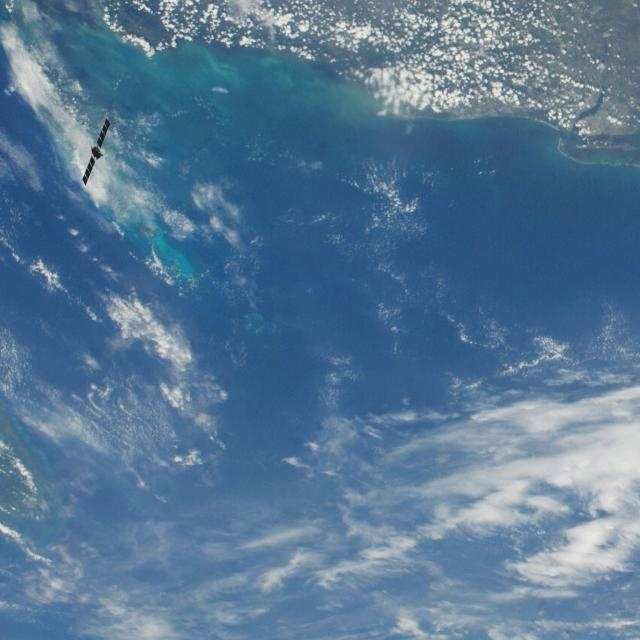satellite: (75, 100, 119, 200)
